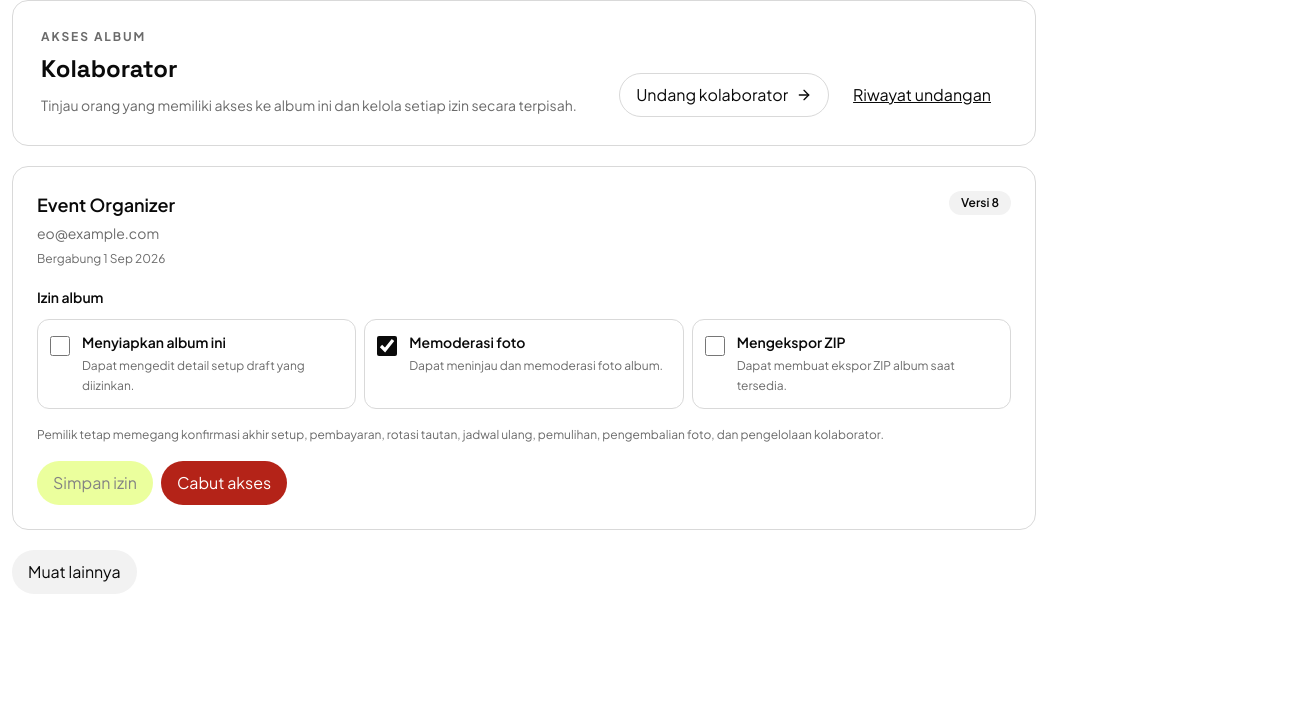
Test case: FE-7 collaborator management › loads H45 cursor pages and refreshes the server permission version
The width and height of the screenshot is (1292, 714).
Check: the text "Event Organizer" is shown, box [37, 191, 175, 219]
Click the button "Muat lainnya" at (74,572), box [12, 550, 136, 594]
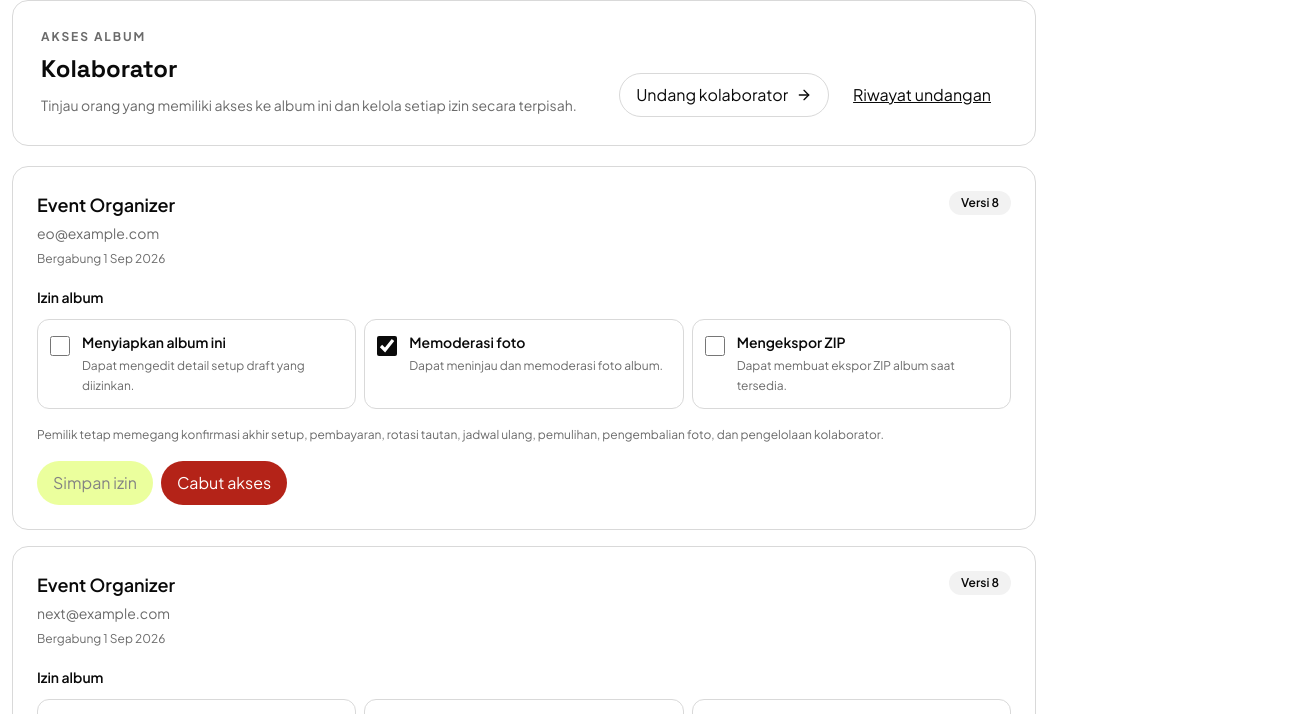
Check: the text "next@example.com" is shown, box [37, 603, 175, 623]
